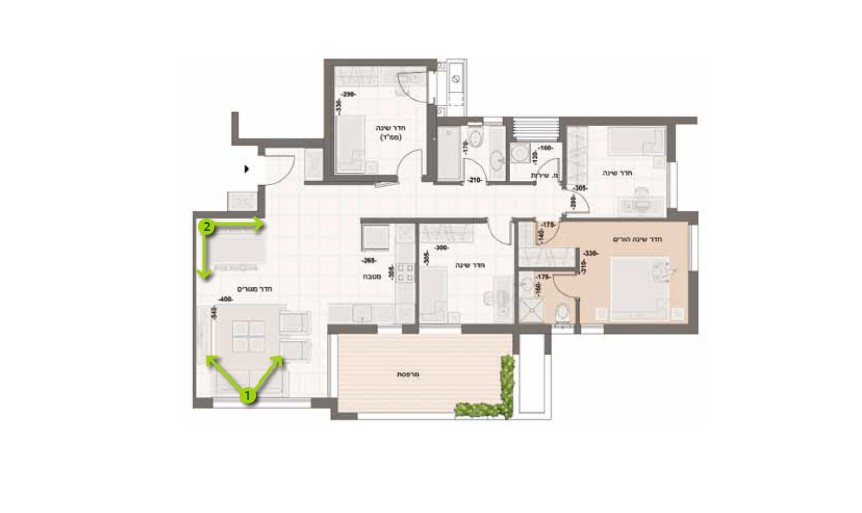door: (271, 151, 299, 192), (396, 143, 426, 171), (483, 229, 514, 251), (577, 188, 593, 214)
wall: (324, 61, 333, 178), (608, 324, 696, 333), (234, 137, 325, 145), (565, 117, 684, 123), (468, 324, 542, 333), (198, 210, 262, 217)
